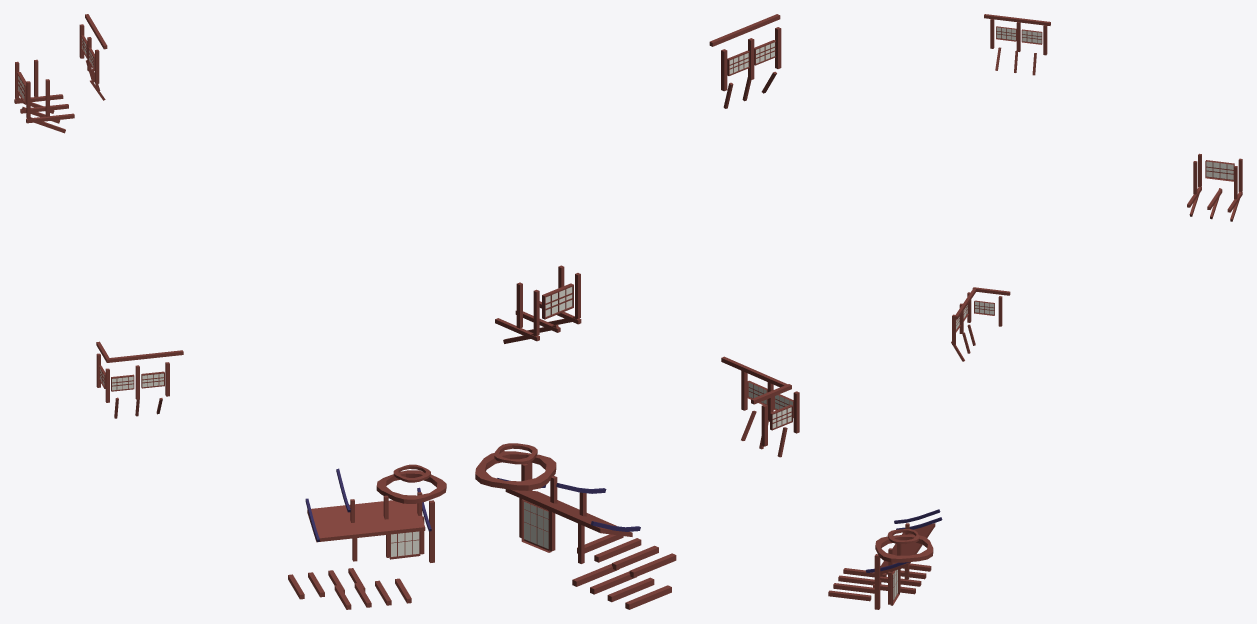
File: bois 03.fbx
3 views of the same model, side by side, from view 1: azimuth 30°, elevation 25°; view 2: azimuth 150°, elevation 25°; view 3: azimuth 270°, elevation 25° (orthographic). The views are drawn at different scales.
Visible parts, largest first — view 1: Plane.570, Cube.427, Plane.572, Plane.604, Plane.586, Plane.571, Plane.588; view 2: Plane.571, Plane.572, Cube.427, Plane.570, Plane.604, Plane.586, Plane.591, Plane.587, Plane.556, Plane.575, Plane.588, Cube.423 (+3 smaller); view 3: Plane.572, Cube.427, Plane.571, Plane.570, Plane.586, Plane.587.
Boxes of the visible parts, box(x1,y1,x2,y2) form: Plane.570: box(307, 500, 425, 542); Cube.427: box(376, 470, 446, 503); Plane.572: box(334, 578, 411, 609); Plane.604: box(389, 531, 420, 559); Plane.586: box(15, 59, 49, 118); Plane.571: box(288, 568, 365, 599); Plane.588: box(14, 94, 74, 123); Plane.571: box(572, 563, 671, 609); Plane.572: box(577, 534, 676, 577); Cube.427: box(475, 451, 556, 490); Plane.570: box(505, 489, 632, 536); Plane.604: box(521, 499, 551, 552); Plane.586: box(516, 265, 580, 335); Plane.591: box(721, 27, 781, 91); Plane.587: box(542, 283, 573, 319); Plane.556: box(519, 498, 584, 563); Plane.575: box(741, 370, 799, 433); Plane.588: box(495, 301, 581, 341); Cube.423: box(494, 443, 537, 464); Plane.572: box(828, 568, 886, 601); Cube.427: box(875, 534, 933, 562); Plane.571: box(873, 563, 931, 594); Plane.570: box(880, 523, 935, 574); Plane.586: box(1193, 153, 1242, 199); Plane.587: box(1205, 160, 1234, 181).
Size of the model in its own units: 32.7 by 57.63 by 44.27.
